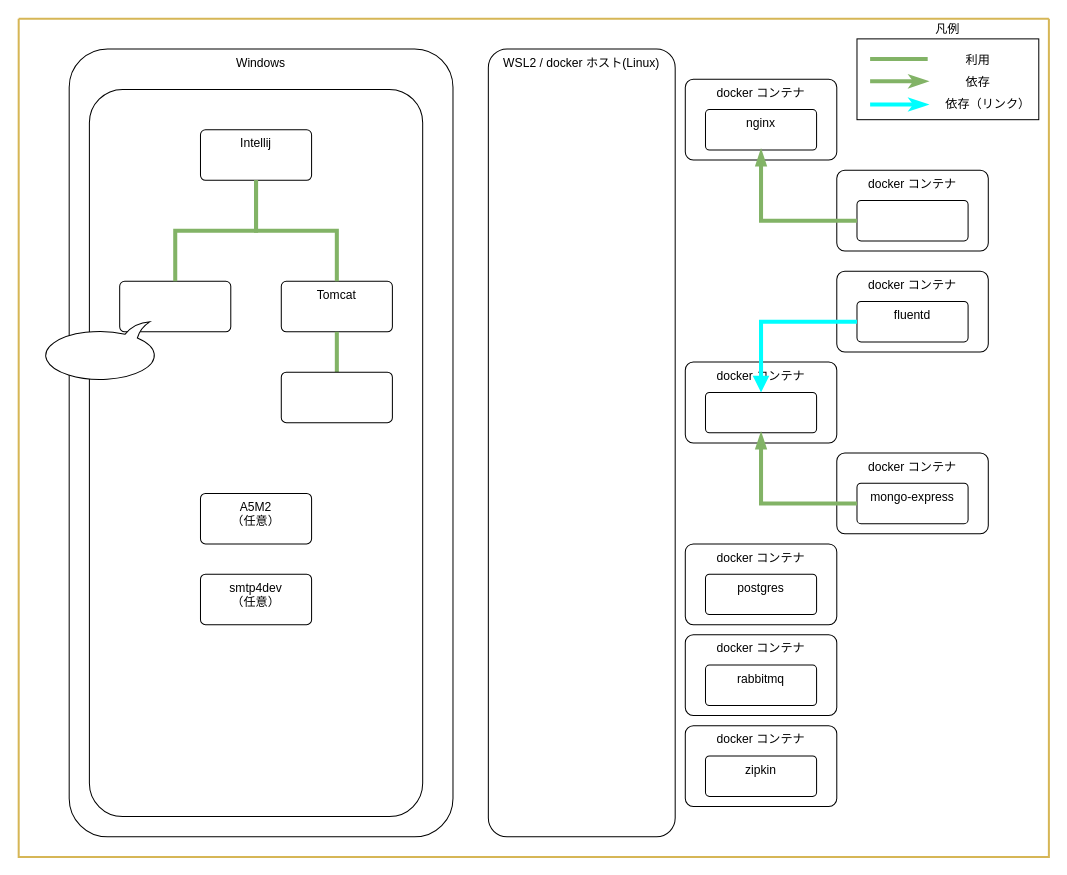
Some shapes in this 1067 by 875 pixel diagram are drawn without their labels. Each missing label, with the centre of its shape:
haproxy: (912,220)
JDK: (336,397)
Maven: (175,306)
mongodb: (760,412)
Nexus利用: (99,351)
